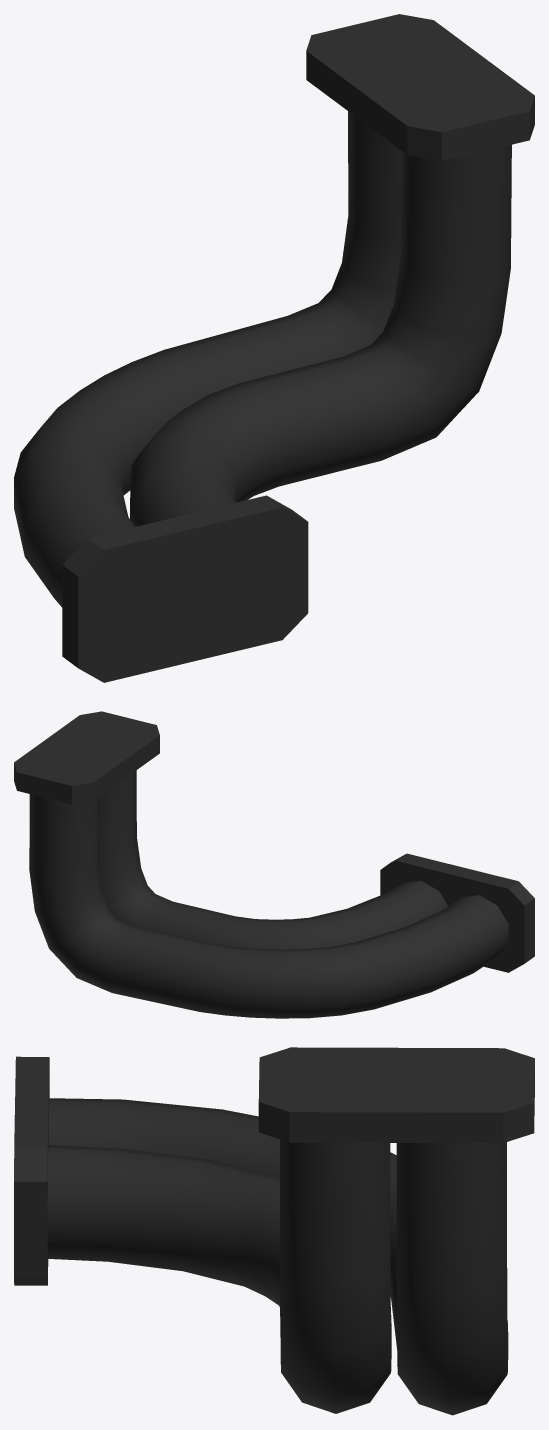
File: Pfb_Soda_Pipe.fbx
3 views of the same model, one above another, from view 1: azimuth 30°, elevation 25°; view 2: azimuth 150°, elevation 25°; view 3: azimuth 270°, elevation 25° (orthographic). The views are drawn at different scales.
Parts seen in each view (by area): view 1: MAT_Soda_Pipe; view 2: MAT_Soda_Pipe; view 3: MAT_Soda_Pipe.
Boxes of the visible parts, box(x1,y1,x2,y2) form: MAT_Soda_Pipe: box(14, 14, 534, 682); MAT_Soda_Pipe: box(14, 711, 534, 1018); MAT_Soda_Pipe: box(14, 1047, 534, 1415).
Size of the model in its own units: 1.84 by 1.06 by 1.35.
1 material, 1 textured.
